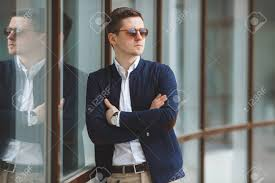F_M_suit jacket: (84, 56, 182, 174)
F_belt: (98, 159, 158, 175)
